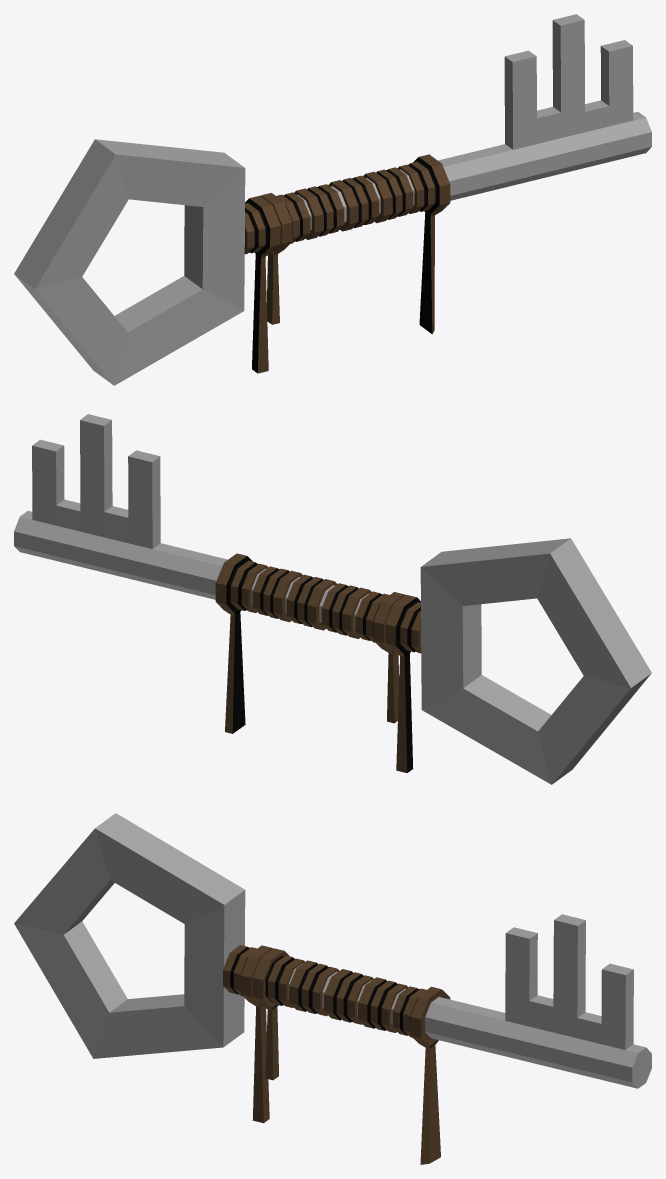
The model's file is Silver Key.fbx.
3 views of the same model, one above another, from view 1: azimuth 30°, elevation 25°; view 2: azimuth 150°, elevation 25°; view 3: azimuth 330°, elevation 25° (orthographic).
Visible parts, largest first — view 1: Circle.004; view 2: Circle.004; view 3: Circle.004.
Boxes of the visible parts, left/top/right/bottom form: Circle.004: left=14, top=14, right=651, bottom=385; Circle.004: left=14, top=414, right=651, bottom=784; Circle.004: left=14, top=813, right=651, bottom=1164.
Size of the model in its own units: 39.45 by 16.78 by 3.26.
